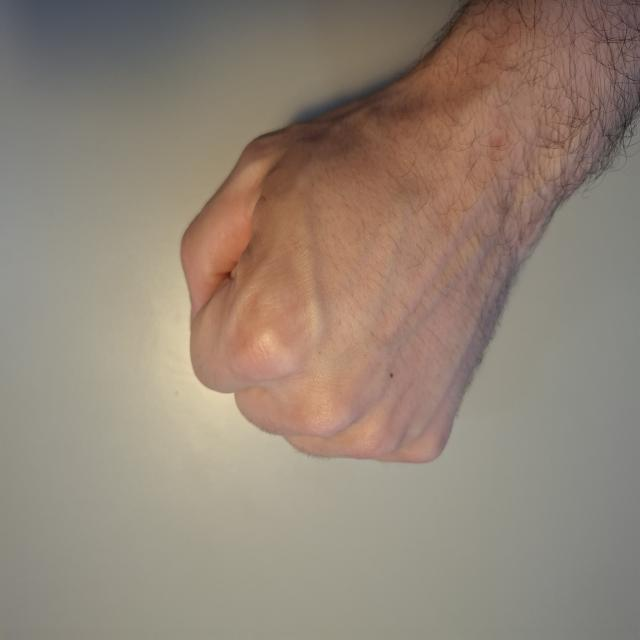glove_off: (176, 37, 546, 468)
